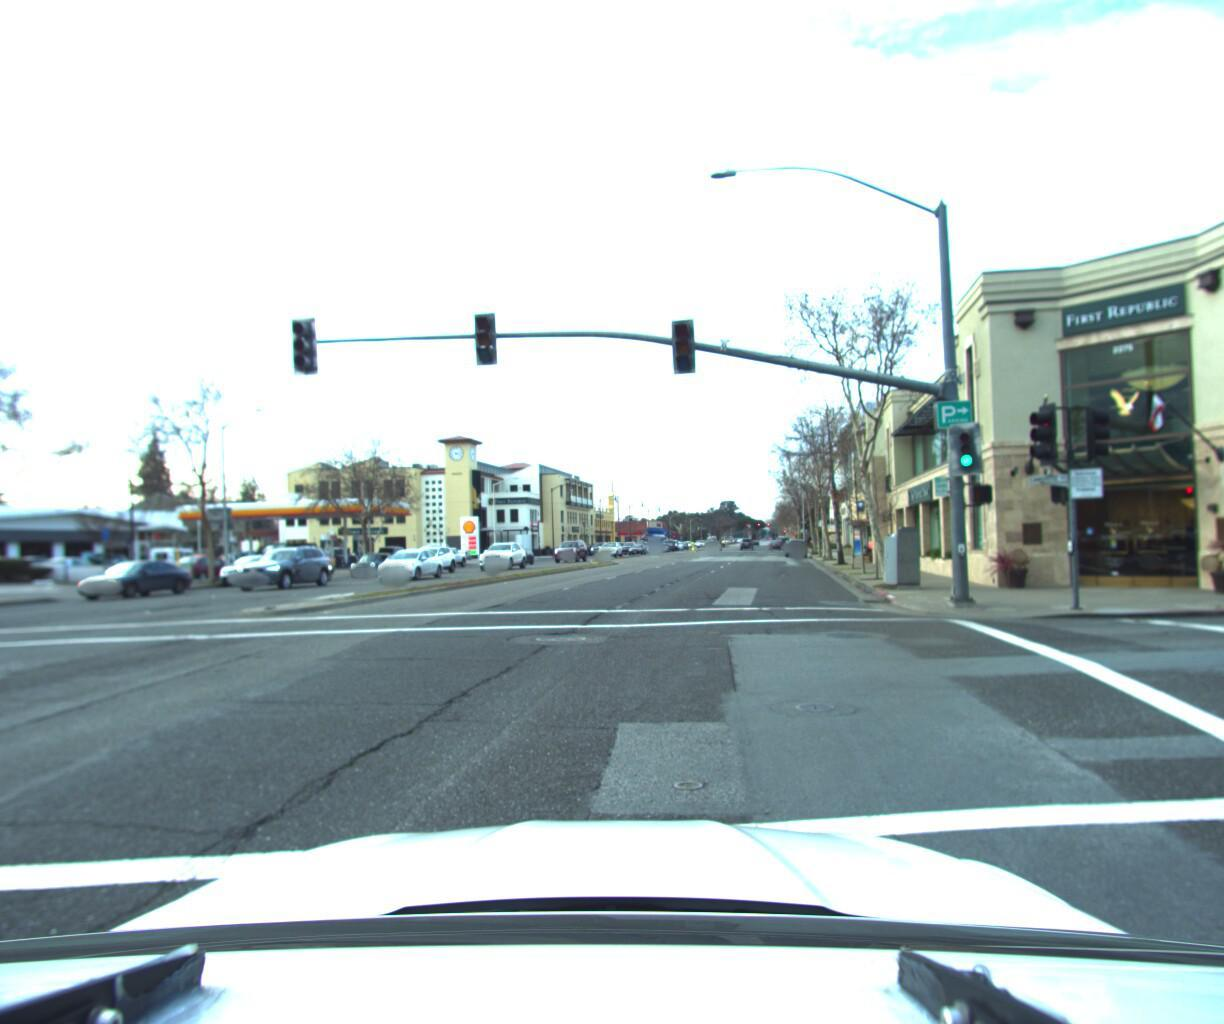car: (73, 558, 199, 602), (229, 544, 339, 592), (213, 552, 296, 591), (372, 545, 448, 583), (30, 554, 112, 588), (164, 554, 246, 586), (147, 548, 215, 583), (52, 550, 137, 576), (401, 542, 462, 574), (476, 540, 529, 570), (410, 541, 472, 563), (351, 550, 404, 576), (551, 536, 589, 559), (783, 535, 806, 557), (594, 540, 622, 557)
